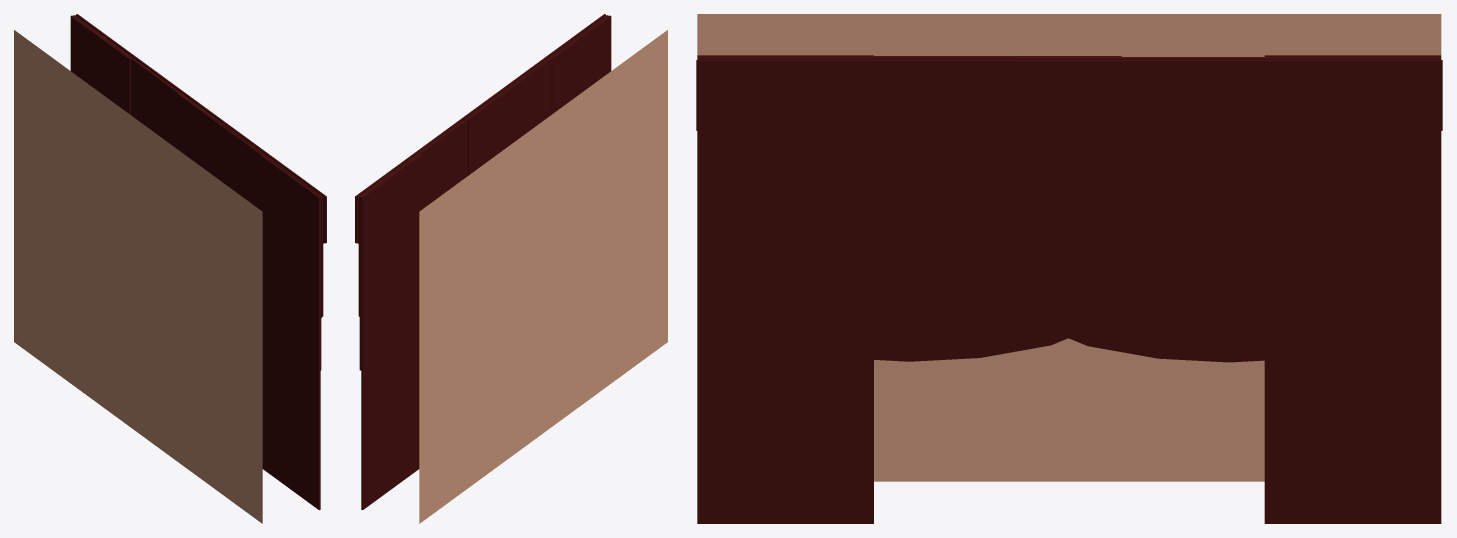
File: telas_prova.fbx
3 views of the same model, side by side, from view 1: azimuth 30°, elevation 25°; view 2: azimuth 150°, elevation 25°; view 3: azimuth 270°, elevation 25° (orthographic). The views are drawn at different scales.
Parts seen in each view (by area): view 1: Plane.005, Plane, Plane.001, Plane.002, Plane.004, Plane.003; view 2: Plane.005, Plane, Plane.001, Plane.002, Plane.004, Plane.003; view 3: Plane.004, Plane.005, Plane.003, Plane, Plane.002, Plane.001.
Boxes of the visible parts, left/top/right/bottom form: Plane.005: left=14, top=30, right=262, bottom=523; Plane: left=70, top=15, right=320, bottom=509; Plane.001: left=178, top=94, right=321, bottom=370; Plane.002: left=72, top=15, right=215, bottom=149; Plane.004: left=76, top=14, right=326, bottom=243; Plane.003: left=74, top=15, right=323, bottom=317; Plane.005: left=419, top=30, right=667, bottom=523; Plane: left=361, top=15, right=611, bottom=509; Plane.001: left=468, top=15, right=609, bottom=175; Plane.002: left=359, top=93, right=502, bottom=370; Plane.004: left=355, top=14, right=605, bottom=243; Plane.003: left=358, top=15, right=608, bottom=316; Plane.004: left=696, top=60, right=1442, bottom=210; Plane.005: left=697, top=14, right=1441, bottom=481; Plane.003: left=697, top=57, right=1441, bottom=286; Plane: left=697, top=55, right=1441, bottom=523; Plane.002: left=1017, top=57, right=1441, bottom=362; Plane.001: left=697, top=56, right=1121, bottom=361.
Size of the model in its own units: 125 by 584 by 845.
